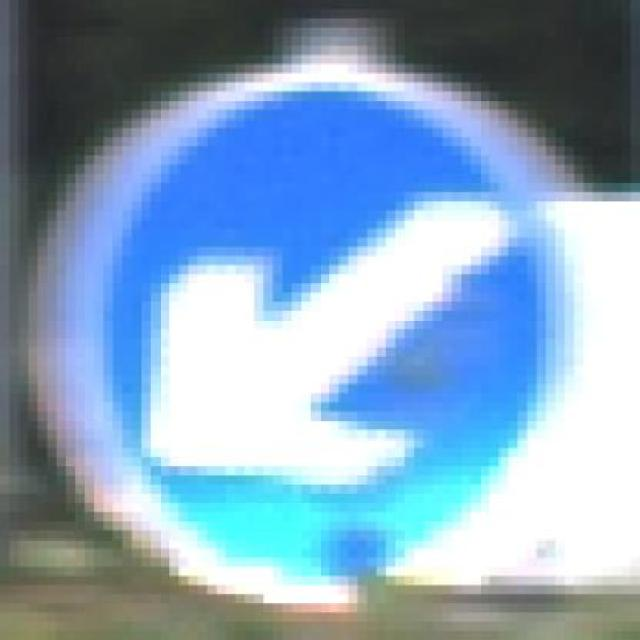Keep-Left: (37, 27, 621, 622)
